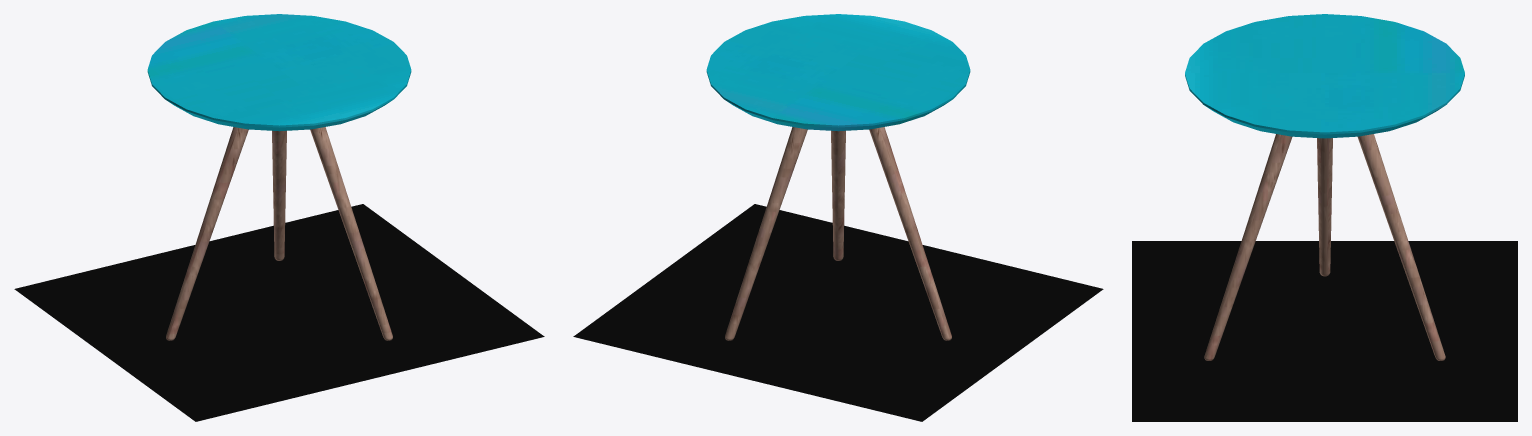
3 views of the same model, side by side, from view 1: azimuth 30°, elevation 25°; view 2: azimuth 150°, elevation 25°; view 3: azimuth 270°, elevation 25° (orthographic). The views are drawn at different scales.
Visible parts, largest first — view 1: 7_Sombra, 7_Topo, 7_Pes; view 2: 7_Sombra, 7_Topo, 7_Pes; view 3: 7_Sombra, 7_Topo, 7_Pes.
Boxes of the visible parts, box(x1,y1,x2,y2) form: 7_Sombra: box(14, 204, 544, 421); 7_Topo: box(147, 14, 411, 131); 7_Pes: box(166, 127, 392, 340); 7_Sombra: box(573, 204, 1103, 421); 7_Topo: box(706, 14, 970, 131); 7_Pes: box(725, 127, 951, 340); 7_Sombra: box(1132, 241, 1517, 421); 7_Topo: box(1185, 14, 1464, 138); 7_Pes: box(1204, 134, 1445, 360).
Size of the model in its own units: 0.9164 by 0.61 by 0.826.
Materials: 3 (3 with a texture image).
